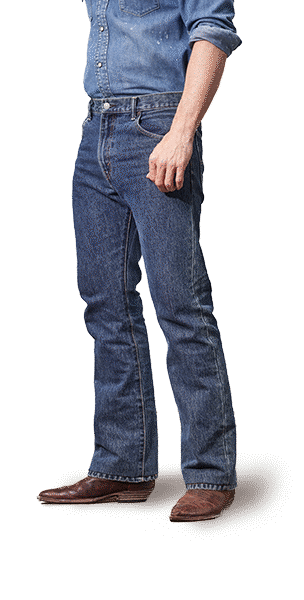jeans: (72, 95, 234, 487)
